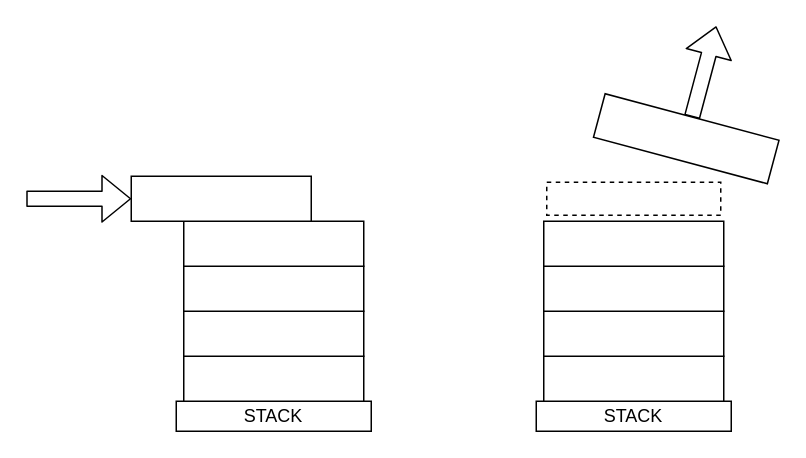
Image size: 806x458. Some labels were removed from this diagram. The shapes that lost their labels are listed below. From the top down, each one's centre as x and y in pixels, then its label:
At point 685,138: "POP".
At point 220,198: "PUSH".
